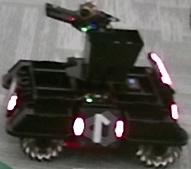armor_1: (74, 118, 124, 138)
light: (151, 52, 173, 86)
